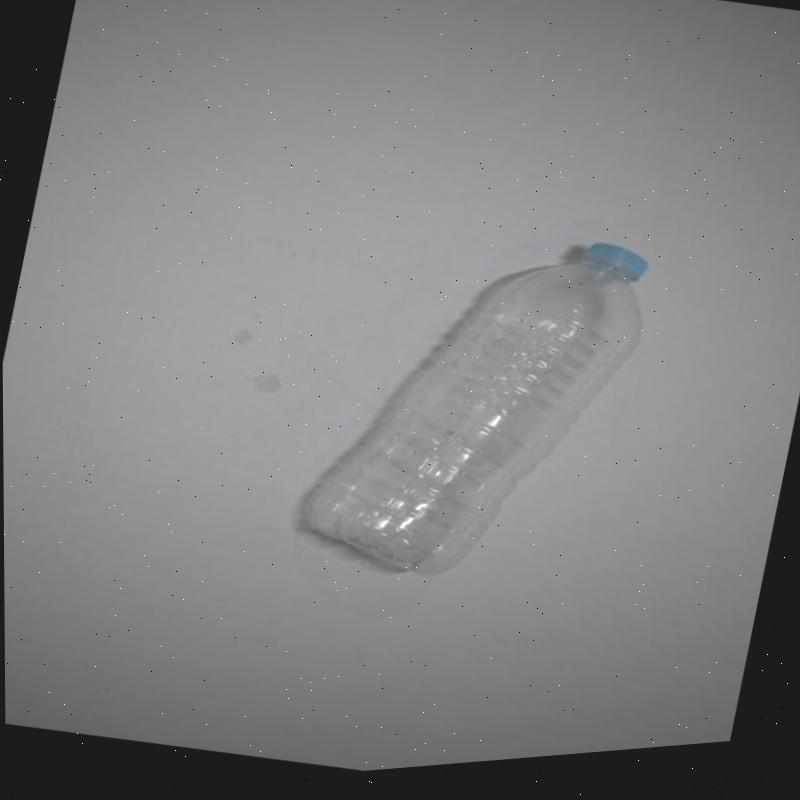botella: (285, 196, 664, 627)
